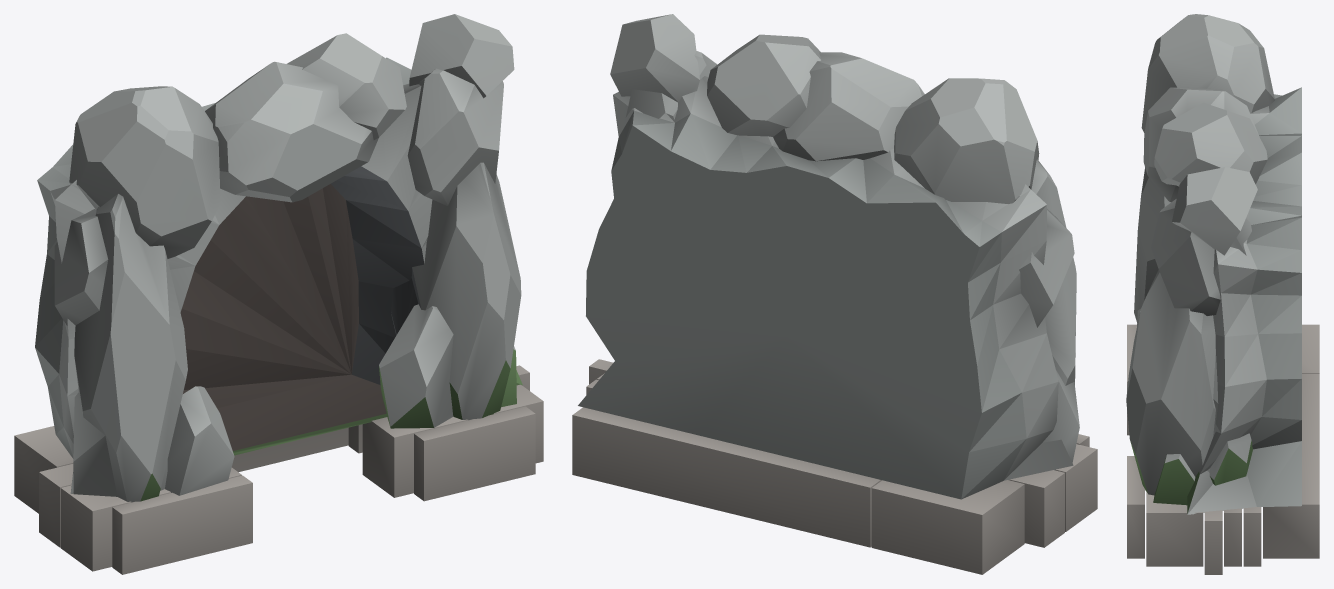
Rendered from cave.glb.
3 renders of one model, left to right at view 1: azimuth 30°, elevation 25°; view 2: azimuth 150°, elevation 25°; view 3: azimuth 270°, elevation 25°, orthographic. The views are drawn at different scales.
Visible parts, largest first — view 1: cave; view 2: cave; view 3: cave.
Boxes of the visible parts, <box> form: cave: <box>14,14,543,574</box>; cave: <box>572,14,1097,574</box>; cave: <box>1126,14,1319,574</box>.
Bounding box in the file's own units: 12.48 × 11.07 × 4.98.
